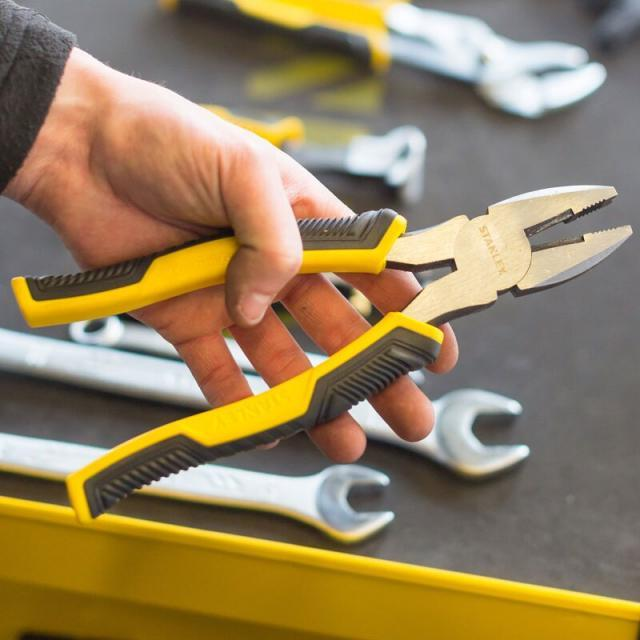pliers: (5, 179, 640, 529)
